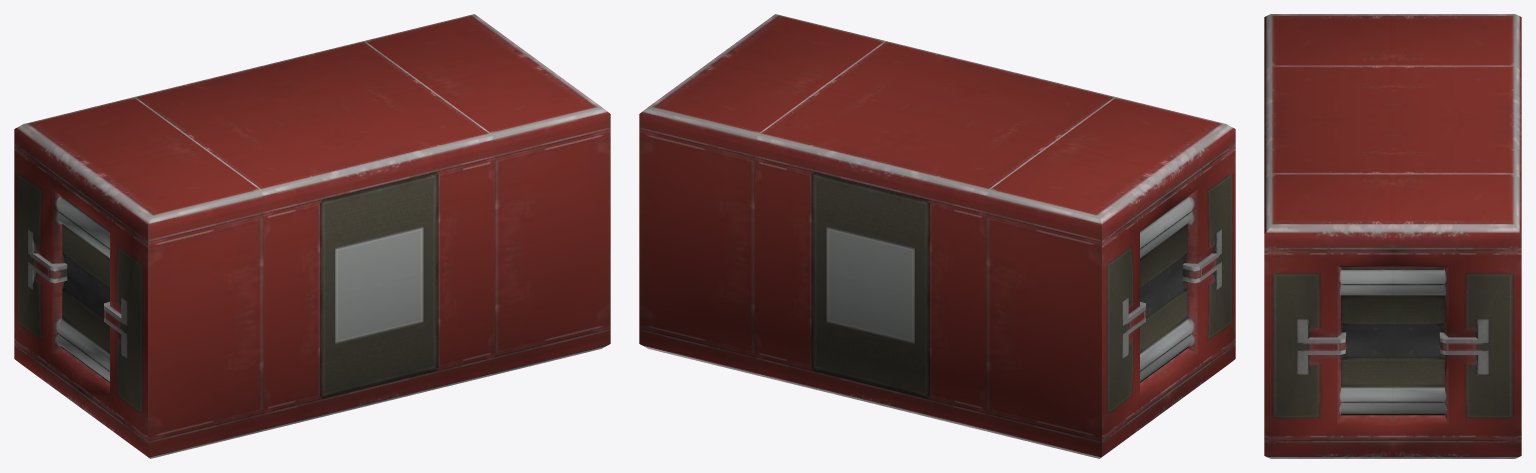
The model's file is Part - block7-CjRZiE-w.glb.
3 views of the same model, side by side, from view 1: azimuth 30°, elevation 25°; view 2: azimuth 150°, elevation 25°; view 3: azimuth 270°, elevation 25° (orthographic). The views are drawn at different scales.
Parts seen in each view (by area): view 1: block7; view 2: block7; view 3: block7.
Part boxes in pixels (x1,y1,x2,y2): block7: [14, 14, 610, 458]; block7: [639, 14, 1235, 458]; block7: [1264, 14, 1521, 458].
Size of the model in its own units: 2.04 by 1 by 1.
1 material, 1 textured.
